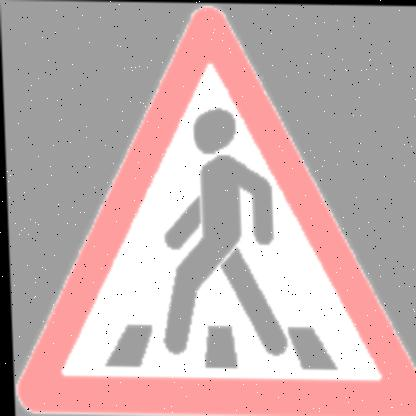Pedestrian Crossing: (14, 21, 410, 399)
